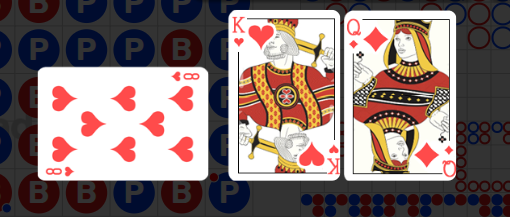8H: (45, 164, 76, 177)
QD: (400, 134, 444, 181), (333, 14, 377, 60)
